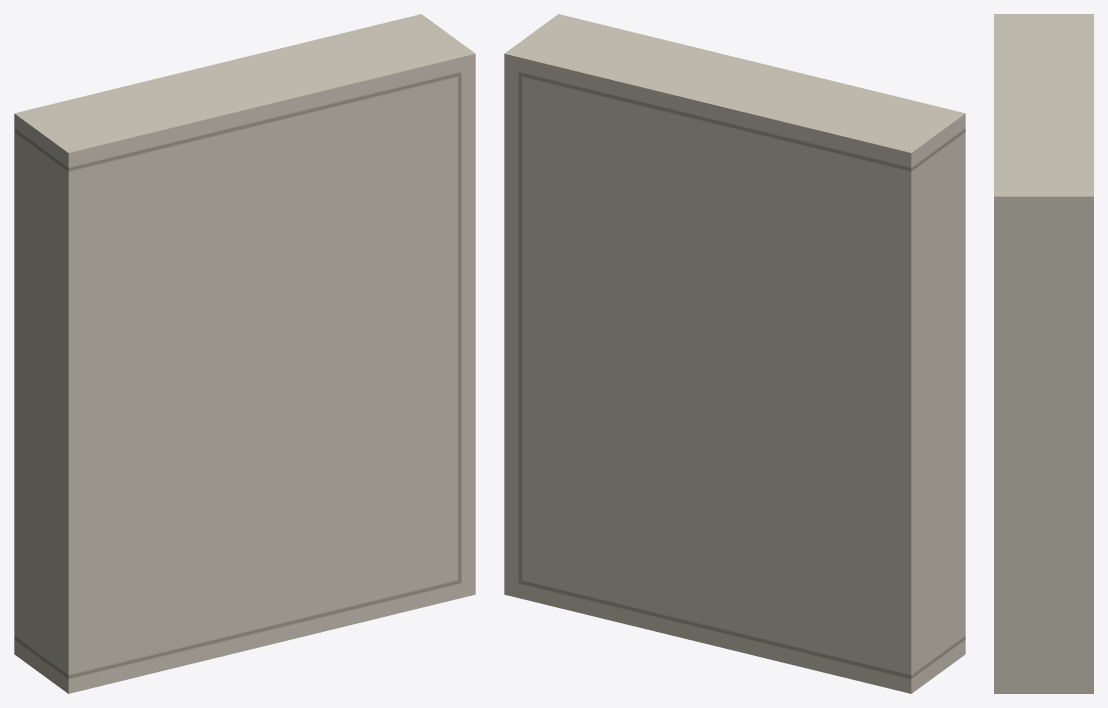
File: game_gear_box.glb
The picture shows the model from 3 angles, left to right: view 1: azimuth 30°, elevation 25°; view 2: azimuth 150°, elevation 25°; view 3: azimuth 270°, elevation 25°; orthographic projection. The views are drawn at different scales.
Parts seen in each view (by area): view 1: game_gear_box; view 2: game_gear_box; view 3: game_gear_box.
Part boxes in pixels (bbox=[...]): game_gear_box: bbox=[14, 14, 475, 693]; game_gear_box: bbox=[504, 14, 965, 693]; game_gear_box: bbox=[994, 14, 1093, 693].
Bounding box in the file's own units: 0.13 × 0.165 × 0.03.
Materials: 1 (1 with a texture image).
